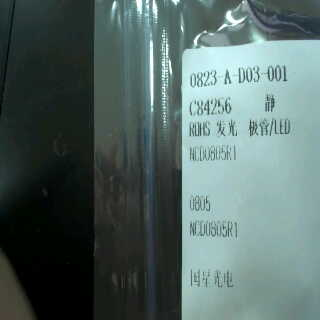LED: (213, 115, 297, 138)
